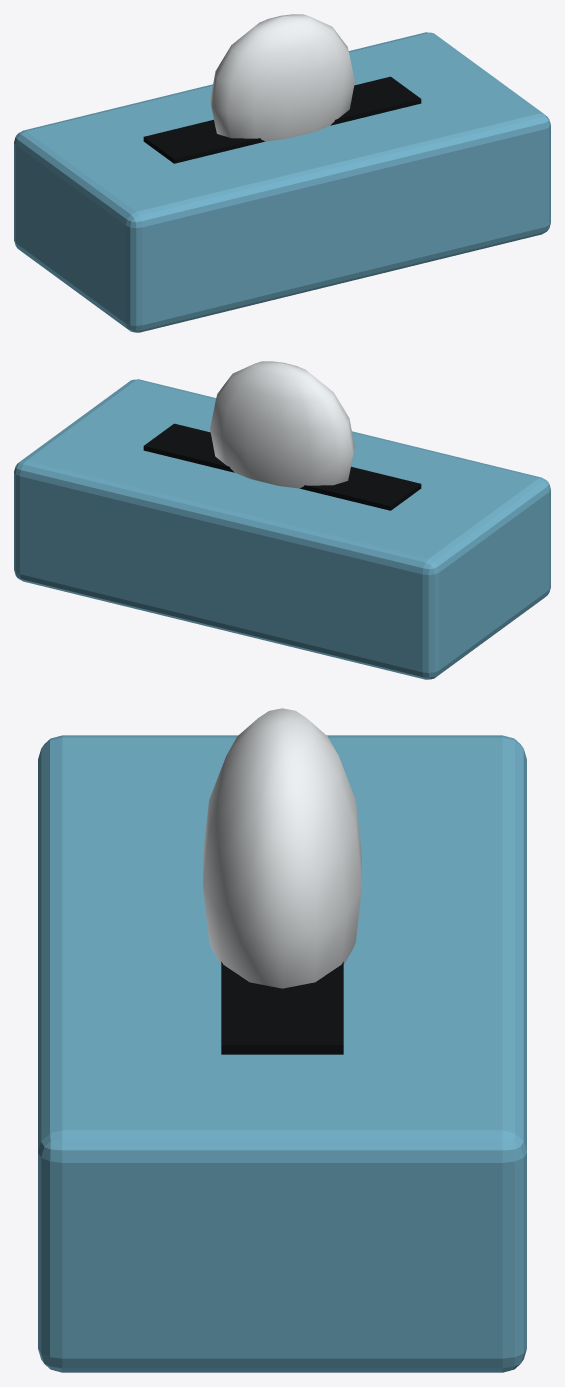
Rendered from Tissue_Box.glb.
3 views of the same model, one above another, from view 1: azimuth 30°, elevation 25°; view 2: azimuth 150°, elevation 25°; view 3: azimuth 270°, elevation 25° (orthographic). The views are drawn at different scales.
Parts seen in each view (by area): view 1: Box, Tissue, Slot.001; view 2: Box, Tissue, Slot.001; view 3: Box, Tissue, Slot.001.
Boxes of the visible parts, x1,y1,x2,y2 form: Box: (14, 32, 550, 332); Tissue: (210, 14, 354, 141); Slot.001: (143, 76, 421, 163); Box: (14, 379, 550, 679); Tissue: (210, 361, 354, 488); Slot.001: (143, 423, 421, 510); Box: (38, 735, 526, 1372); Tissue: (203, 708, 361, 988); Slot.001: (221, 961, 343, 1054).
Size of the model in its own units: 0.24 by 0.122 by 0.12.
